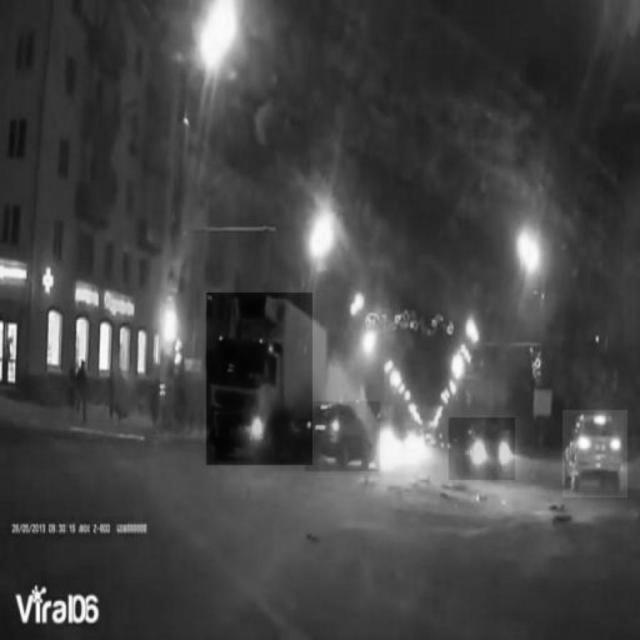vehicle: (207, 293, 313, 465), (563, 410, 627, 498), (306, 401, 380, 471), (449, 418, 515, 480)
